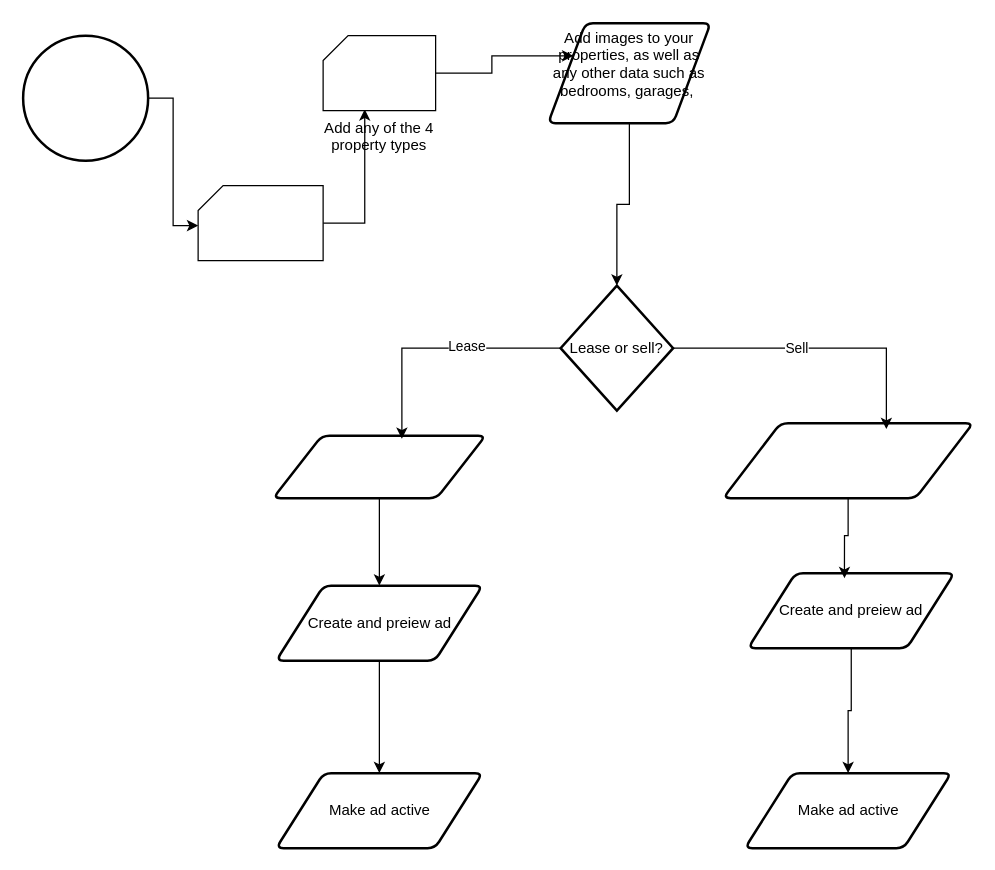
This 995x870 diagram has some shape labels left out. The shapes that lost their labels are listed below. From the top down, each one's centre as x and y in pixels, then its label:
pixel 260 222: Register and login
pixel 378 466: Add data about lease details such as deposit, rent, etc
pixel 847 460: Add Selling details such
